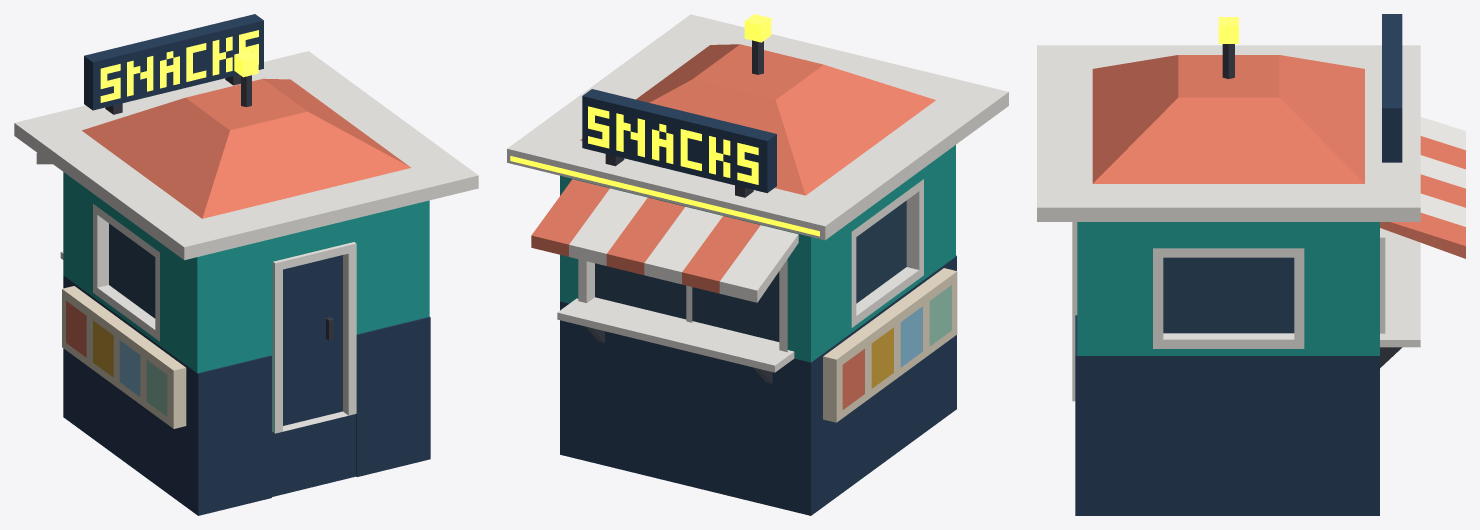
Rendered from kiosk_a.glb.
3 renders of one model, left to right at view 1: azimuth 30°, elevation 25°; view 2: azimuth 150°, elevation 25°; view 3: azimuth 270°, elevation 25°, orthographic. The views are drawn at different scales.
Visible parts, largest first — view 1: Building, Building_Detail, Building_Neon, Building_Glass; view 2: Building, Building_Detail, Building_Glass, Building_Neon; view 3: Building, Building_Detail, Building_Glass, Building_Neon.
Boxes of the visible parts, x1,y1,x2,y2 form: Building: [14, 51, 478, 515]; Building_Detail: [36, 14, 333, 428]; Building_Neon: [100, 30, 258, 102]; Building_Glass: [109, 223, 155, 318]; Building: [507, 14, 1008, 515]; Building_Detail: [531, 40, 957, 422]; Building_Glass: [595, 200, 906, 341]; Building_Neon: [510, 14, 819, 236]; Building: [1037, 45, 1420, 515]; Building_Detail: [1222, 14, 1465, 367]; Building_Glass: [1163, 257, 1294, 333]; Building_Neon: [1218, 17, 1238, 43].
Size of the model in its own units: 3.8 by 4.71 by 4.25.
